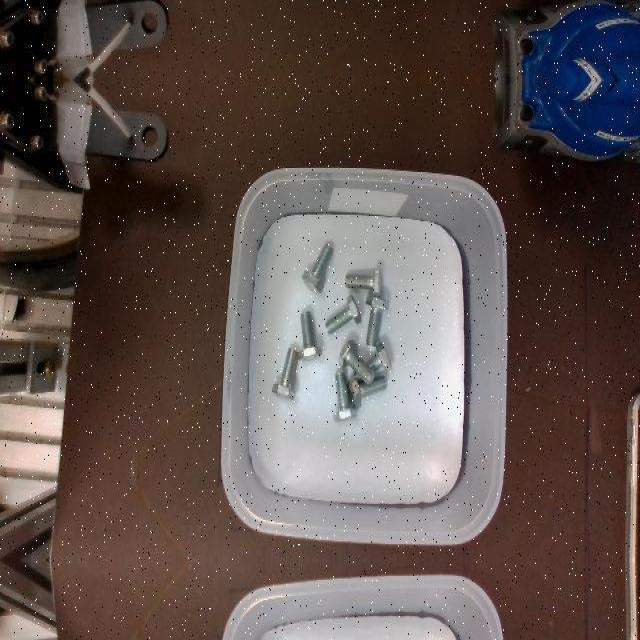screw: (338, 339, 374, 385), (301, 243, 333, 293), (325, 293, 361, 335), (271, 348, 298, 400), (365, 295, 389, 345), (297, 309, 321, 359), (333, 371, 357, 421), (344, 269, 382, 297)
